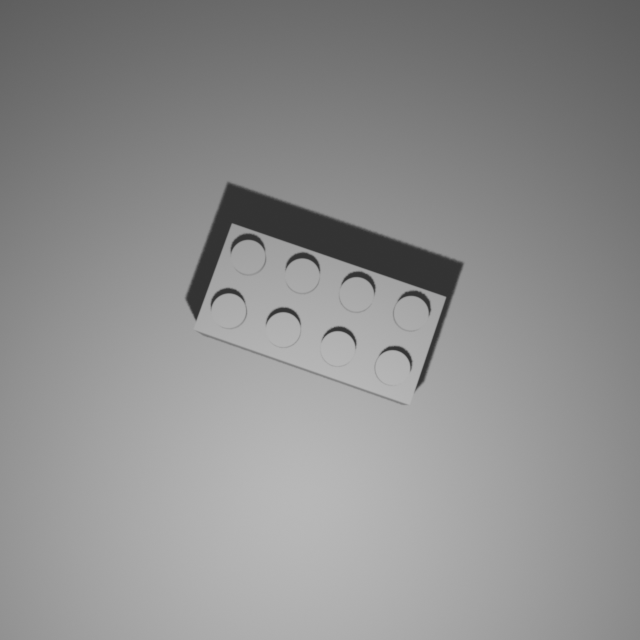lego_2x4: (192, 221, 448, 405)
